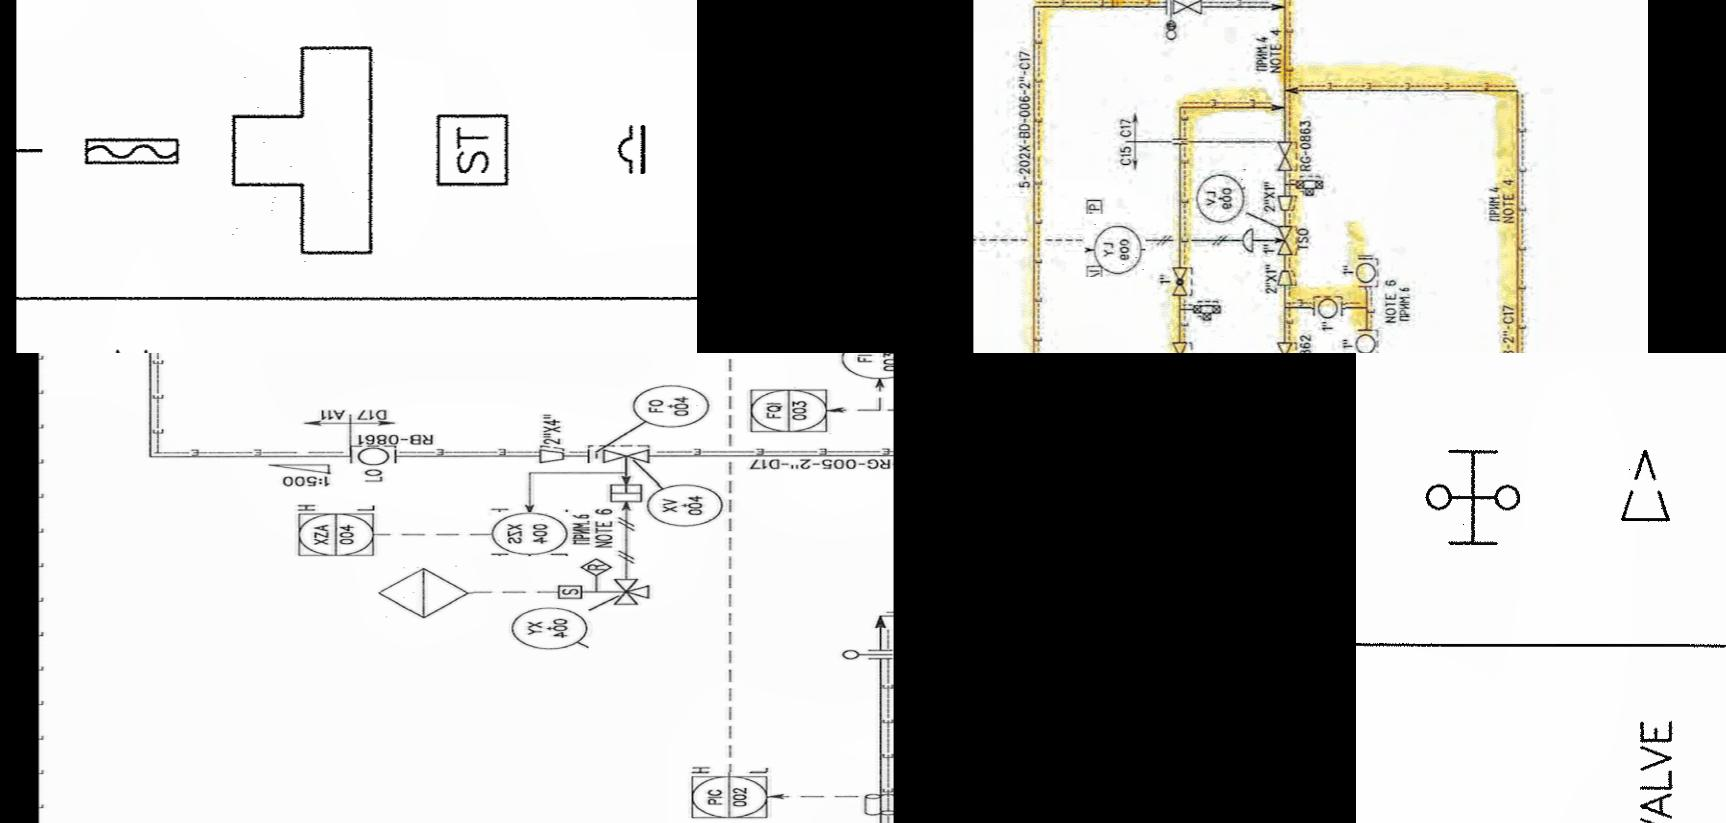BURSTING DISK: (612, 116, 645, 179)
CONCENTRIC REDUCER: (1274, 264, 1299, 289), (1274, 186, 1293, 213)
DCS ACCESSIBLE: (682, 418, 771, 469)
DIAPHRAGM SEAL: (79, 130, 187, 167)
DUPLEX RECEPTACLE: (857, 436, 894, 464)
DUPLEX STRAINER: (1421, 438, 1525, 559)
END CAP: (1234, 224, 1260, 259)
FIELD INSTRUMENT: (1085, 210, 1146, 274), (1197, 165, 1247, 230), (1355, 248, 1386, 287), (1312, 288, 1346, 319), (1352, 327, 1381, 353)
GATE VALVE: (1272, 132, 1297, 175), (1272, 220, 1296, 256), (1171, 0, 1205, 17), (1164, 334, 1193, 353), (1272, 334, 1298, 353)
GLOBE VALVE: (1167, 257, 1194, 298)
PIG TEE: (226, 40, 378, 261)
STEM TRAP: (427, 107, 513, 189)
TEMPORARY STRAINER: (1612, 441, 1675, 530)
